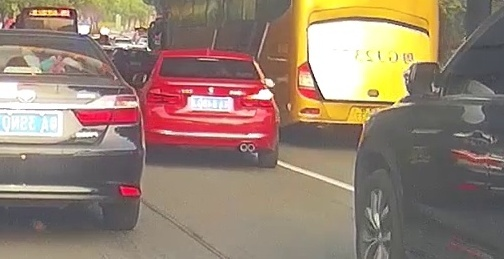L_light: (146, 87, 181, 105)
R_light: (240, 88, 273, 107)
T_light: (196, 58, 219, 62)
day-right: (139, 49, 280, 168)
